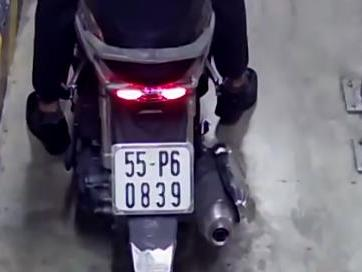num_plate: (111, 143, 194, 214)
